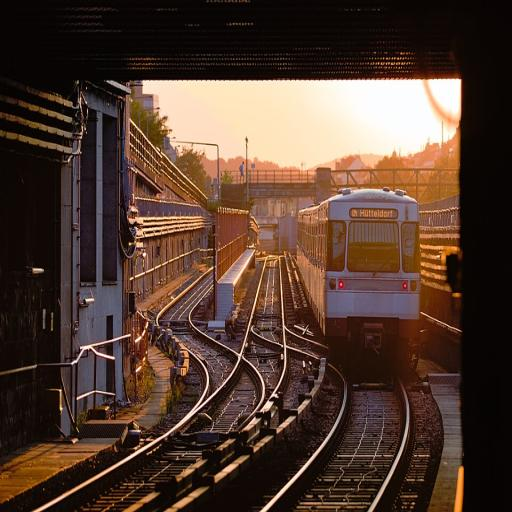Silberpfeil: (293, 181, 425, 353)
